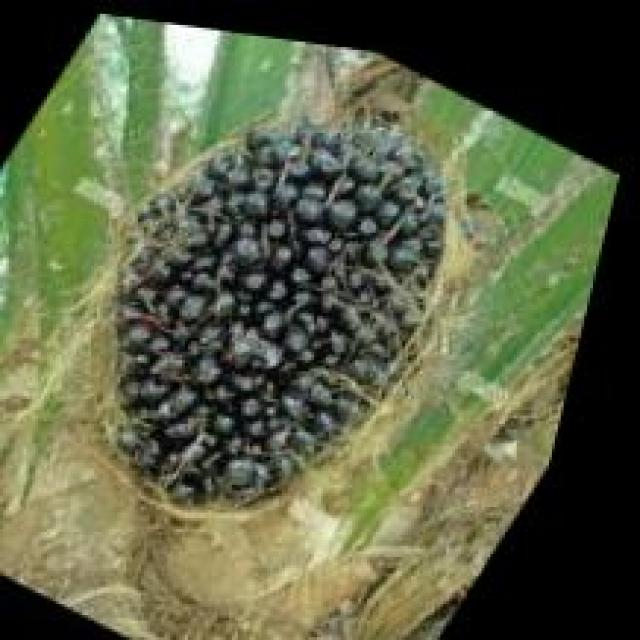Unripe: (0, 17, 558, 565)
